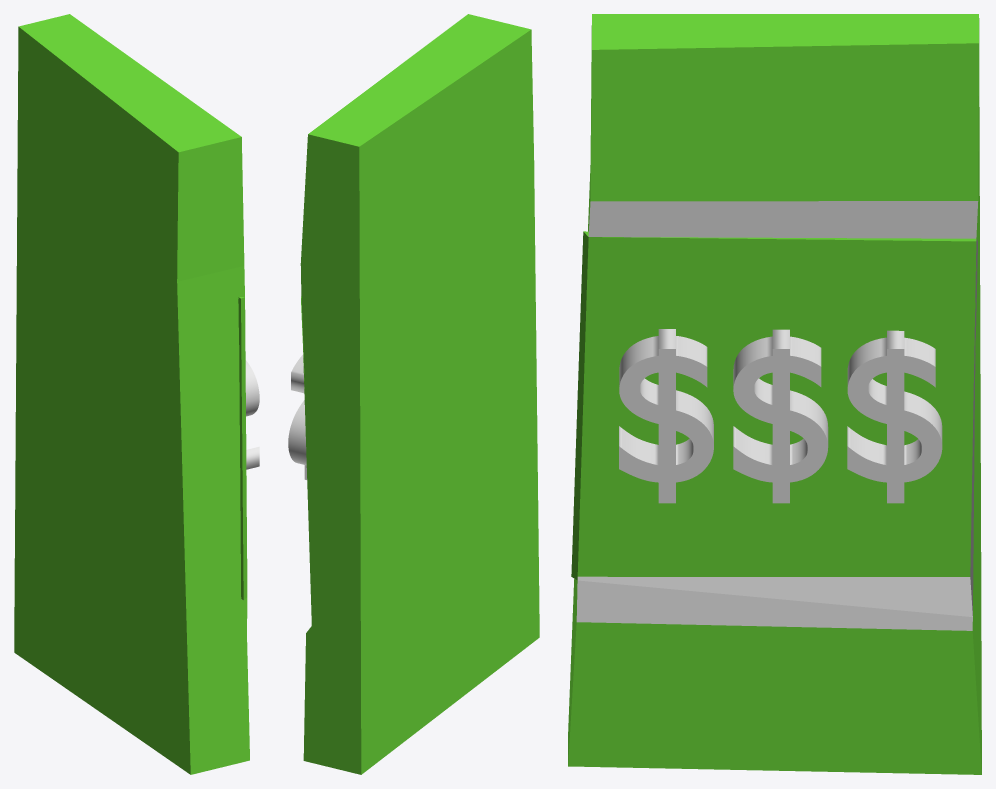
File: Money.fbx
The picture shows the model from 3 angles, left to right: view 1: azimuth 30°, elevation 25°; view 2: azimuth 150°, elevation 25°; view 3: azimuth 270°, elevation 25°; orthographic projection. The views are drawn at different scales.
Parts seen in each view (by area): view 1: Cube, Text; view 2: Cube, Text; view 3: Cube, Text.
Part boxes in pixels (box(x1,y1,x2,y2)): Cube: box(14, 14, 249, 774); Text: box(245, 360, 259, 469); Cube: box(300, 14, 539, 774); Text: box(288, 354, 307, 479); Cube: box(568, 14, 981, 774); Text: box(619, 329, 942, 503).
Bounding box in the file's own units: 60.63 × 382 × 196.
